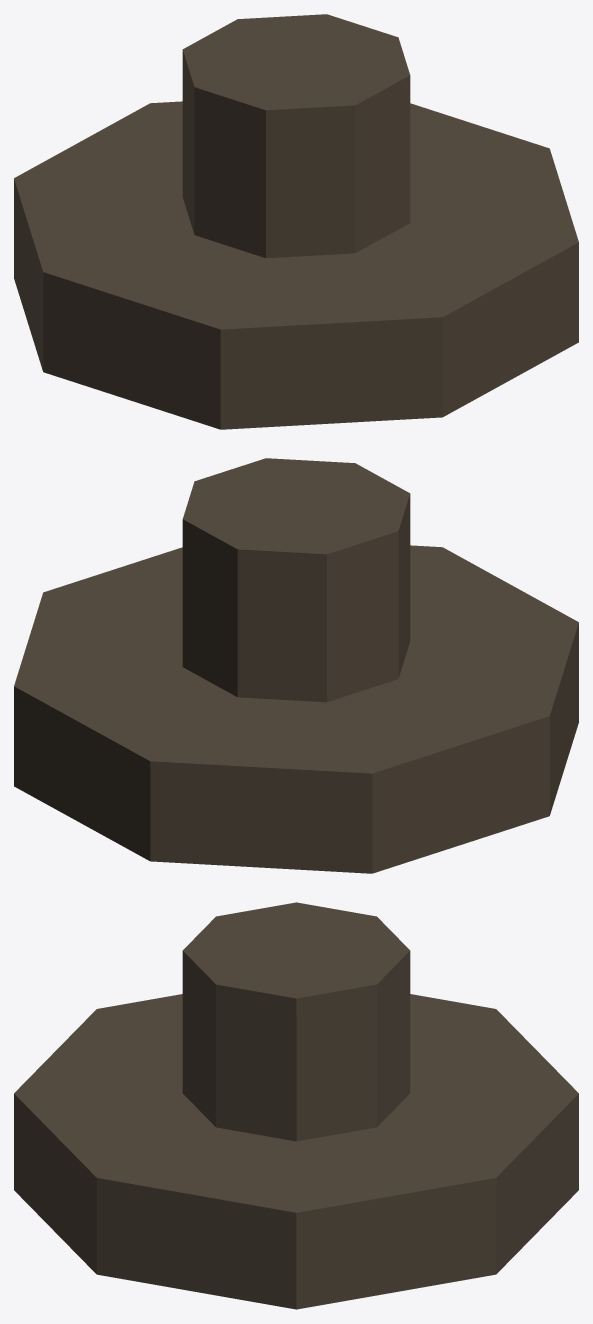
The model's file is WM_RoundDisplay.fbx.
The picture shows the model from 3 angles, top to bottom: view 1: azimuth 30°, elevation 25°; view 2: azimuth 150°, elevation 25°; view 3: azimuth 270°, elevation 25°; orthographic projection. The views are drawn at different scales.
Parts seen in each view (by area): view 1: Cylinder_10; view 2: Cylinder_10; view 3: Cylinder_10.
Part boxes in pixels (bbox=[...]): Cylinder_10: bbox=[14, 14, 578, 429]; Cylinder_10: bbox=[14, 458, 578, 873]; Cylinder_10: bbox=[14, 902, 578, 1309].
Bounding box in the file's own units: 9.03 × 4.23 × 9.03.
